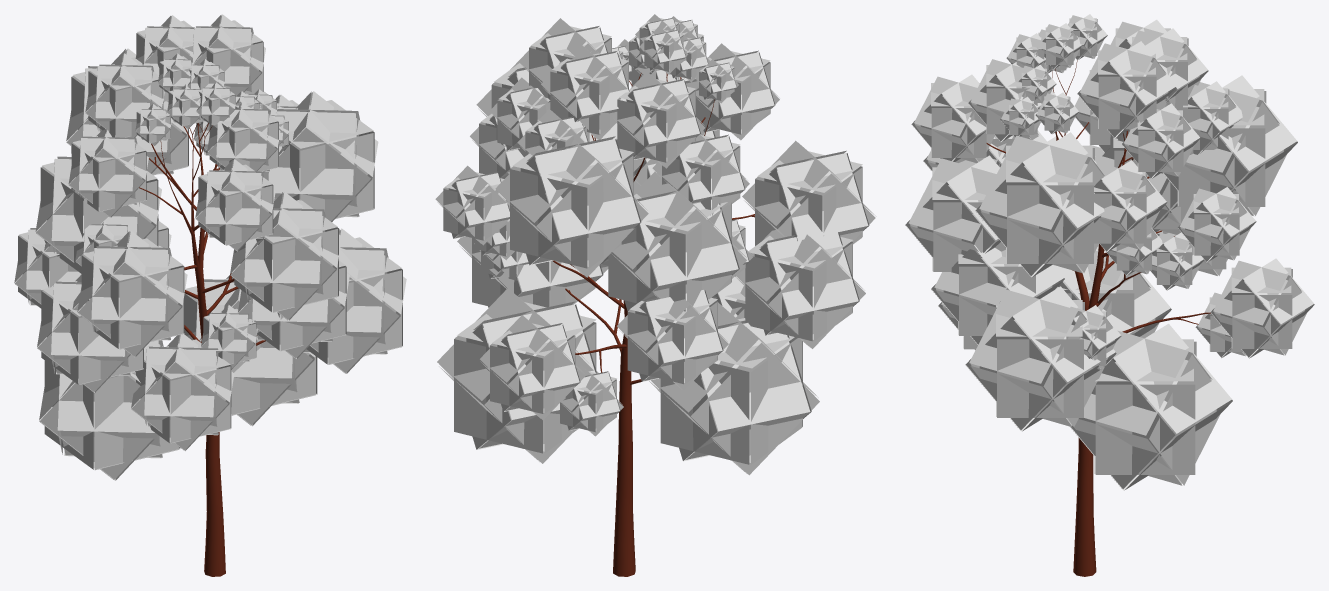
File: Tree_1.fbx
3 views of the same model, side by side, from view 1: azimuth 30°, elevation 25°; view 2: azimuth 150°, elevation 25°; view 3: azimuth 270°, elevation 25° (orthographic). The views are drawn at different scales.
Parts seen in each view (by area): view 1: Plane.020, Plane.016, Plane.018, Plane.002, Plane.003, Plane.001, Plane, Plane.019, Plane.024, Plane.027, Plane.026, tree (+14 smaller); view 2: Plane.002, Plane.023, Plane.024, Plane, Plane.019, Plane.020, Plane.005, Plane.007, Plane.015, Plane.013, tree, Plane.026 (+18 smaller); view 3: Plane, Plane.001, Plane.016, Plane.023, Plane.018, Plane.007, Plane.017, Plane.012, Plane.027, Plane.014, Plane.002, tree (+19 smaller).
Part boxes in pixels (bbox=[...]): Plane.020: bbox=[77, 230, 187, 357]; Plane.016: bbox=[263, 91, 378, 221]; Plane.018: bbox=[230, 191, 341, 320]; Plane.002: bbox=[39, 340, 180, 480]; Plane.003: bbox=[131, 334, 234, 450]; Plane.001: bbox=[303, 228, 406, 373]; Plane: bbox=[184, 275, 317, 426]; Plane.019: bbox=[37, 274, 143, 392]; Plane.024: bbox=[35, 156, 161, 273]; Plane.027: bbox=[195, 159, 275, 251]; Plane.026: bbox=[68, 129, 148, 217]; tree: bbox=[139, 123, 265, 576]; Plane.002: bbox=[649, 302, 819, 475]; Plane.023: bbox=[495, 136, 648, 277]; Plane.024: bbox=[608, 171, 746, 311]; Plane: bbox=[437, 288, 598, 463]; Plane.019: bbox=[735, 230, 865, 348]; Plane.020: bbox=[742, 140, 876, 245]; Plane.005: bbox=[617, 289, 728, 390]; Plane.007: bbox=[480, 315, 585, 419]; Plane.015: bbox=[613, 71, 705, 168]; Plane.013: bbox=[541, 44, 629, 139]; tree: bbox=[552, 73, 754, 576]; Plane.026: bbox=[652, 134, 749, 215]; Plane: bbox=[1070, 323, 1232, 490]; Plane.001: bbox=[965, 286, 1116, 431]; Plane.016: bbox=[975, 132, 1104, 277]; Plane.023: bbox=[1163, 75, 1297, 215]; Plane.018: bbox=[905, 155, 1005, 271]; Plane.007: bbox=[1210, 258, 1314, 358]; Plane.017: bbox=[931, 245, 1064, 344]; Plane.012: bbox=[1077, 41, 1176, 138]; Plane.027: bbox=[911, 74, 994, 163]; Plane.014: bbox=[1094, 160, 1167, 251]; Plane.002: bbox=[1054, 245, 1171, 338]; tree: bbox=[986, 60, 1210, 576].
Size of the model in its own units: 1230 by 1657 by 1149.
